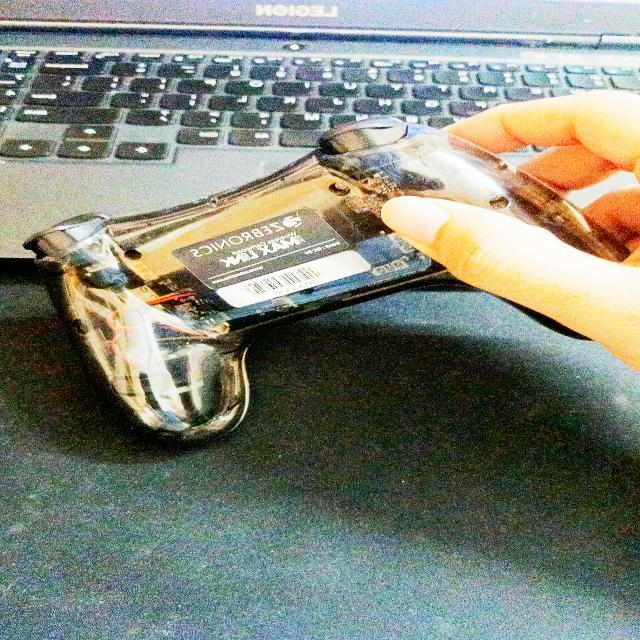gamepad: (23, 116, 632, 446)
